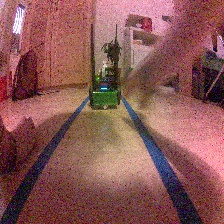rob: (88, 66, 121, 111)
